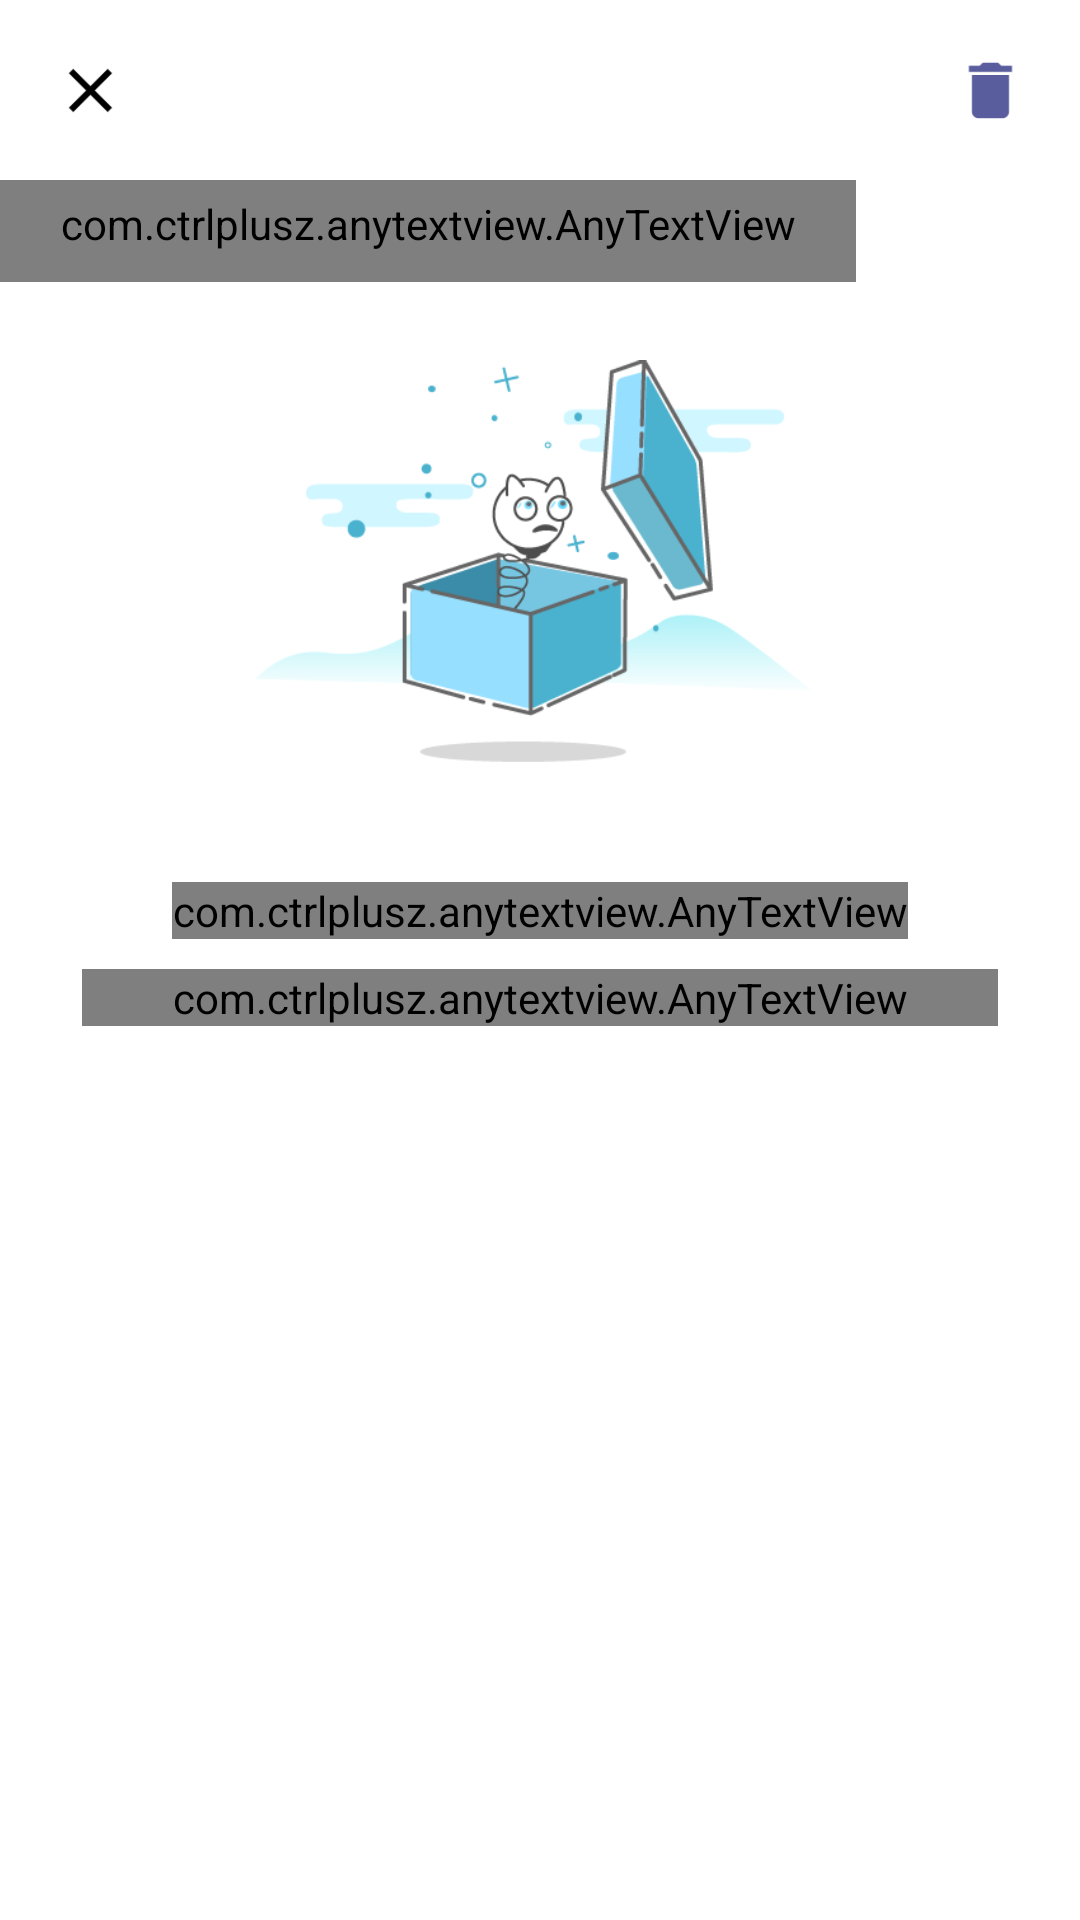

Named icons in this screenshot (1080 x 1920) and their bounding boxes, (x1, y1, x2, y2):
cancel: (69, 69, 112, 112)
delete: (968, 62, 1013, 119)
